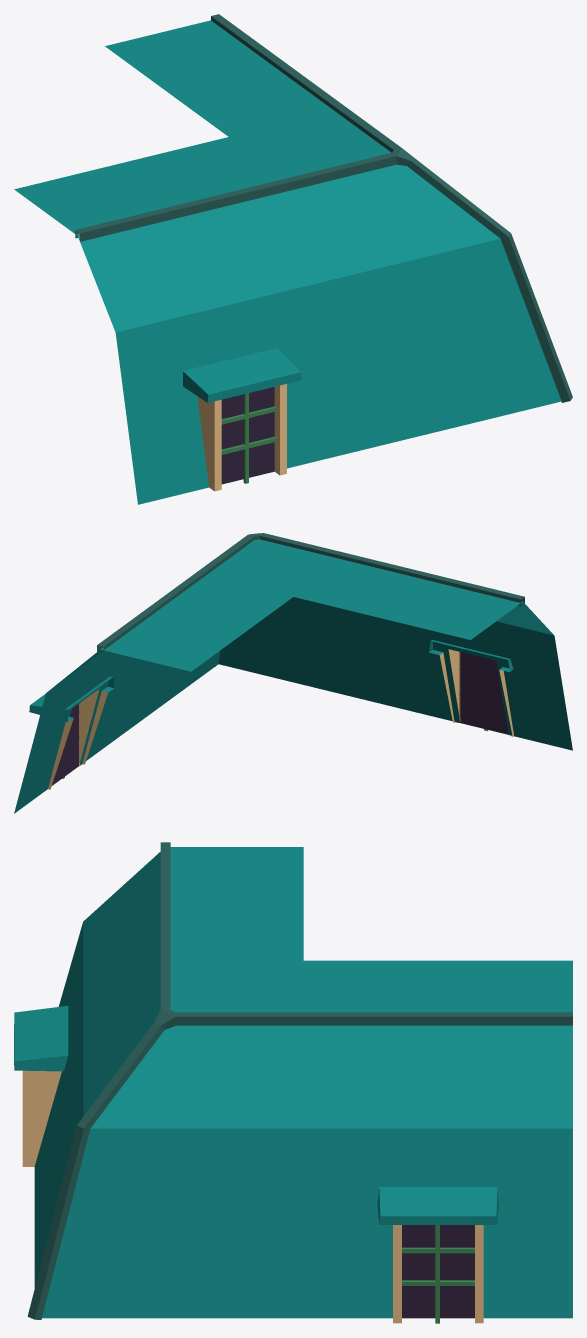
The model's file is RoofCorner.fbx.
The picture shows the model from 3 angles, top to bottom: view 1: azimuth 30°, elevation 25°; view 2: azimuth 150°, elevation 25°; view 3: azimuth 270°, elevation 25°; orthographic projection. The views are drawn at different scales.
Visible parts, largest first — view 1: roofCorner; view 2: roofCorner; view 3: roofCorner.
Part boxes in pixels (bbox=[...]): roofCorner: bbox=[14, 14, 572, 504]; roofCorner: bbox=[14, 533, 572, 813]; roofCorner: bbox=[14, 842, 572, 1323].
Bounding box in the file's own units: 415 × 206 × 415.
